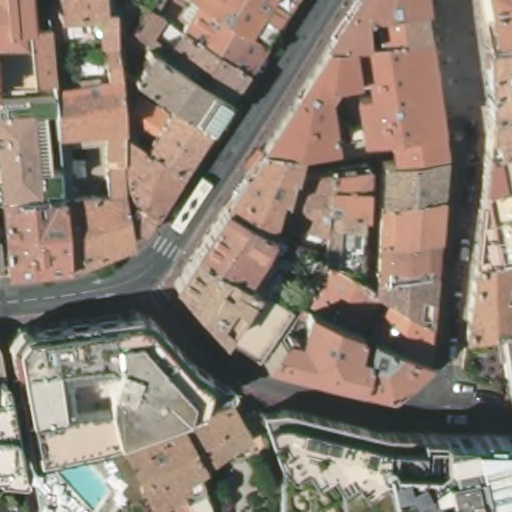pool: (58, 461, 116, 507)
